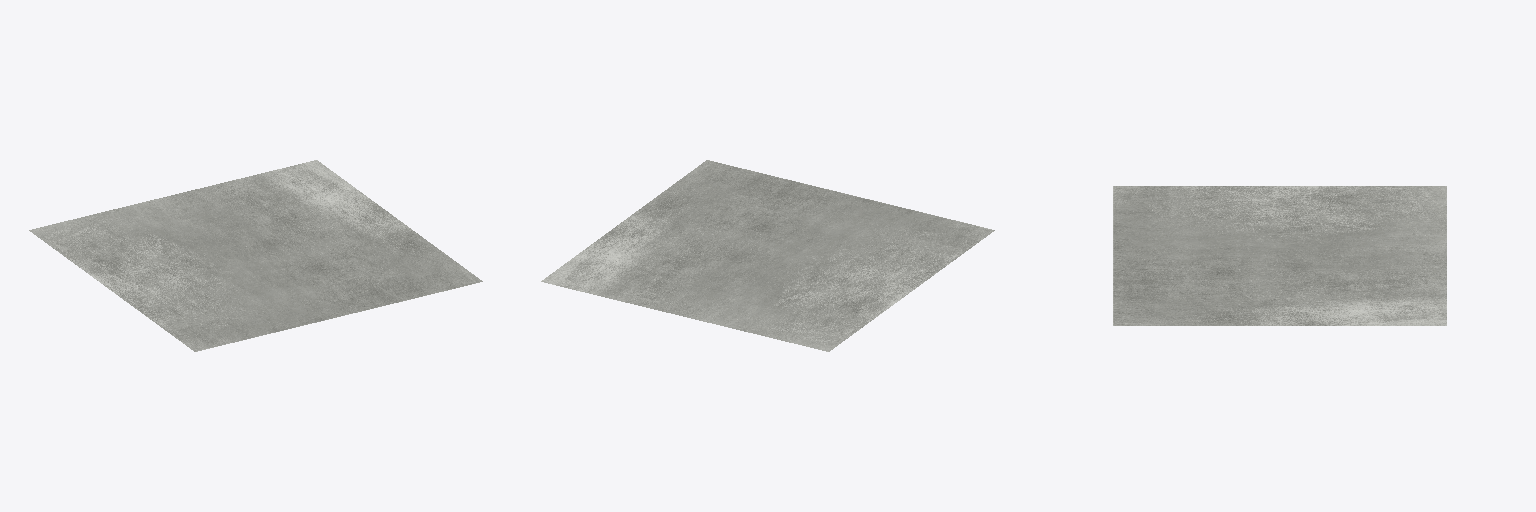
3 views of the same model, side by side, from view 1: azimuth 30°, elevation 25°; view 2: azimuth 150°, elevation 25°; view 3: azimuth 270°, elevation 25° (orthographic).
Visible parts, largest first — view 1: Ground002_平面; view 2: Ground002_平面; view 3: Ground002_平面.
Part boxes in pixels (left/top/right/bottom): Ground002_平面: left=29, top=160, right=482, bottom=351; Ground002_平面: left=541, top=160, right=994, bottom=351; Ground002_平面: left=1113, top=186, right=1446, bottom=325.
Size of the model in its own units: 2 by 0 by 2.
Materials: 1 (1 with a texture image).